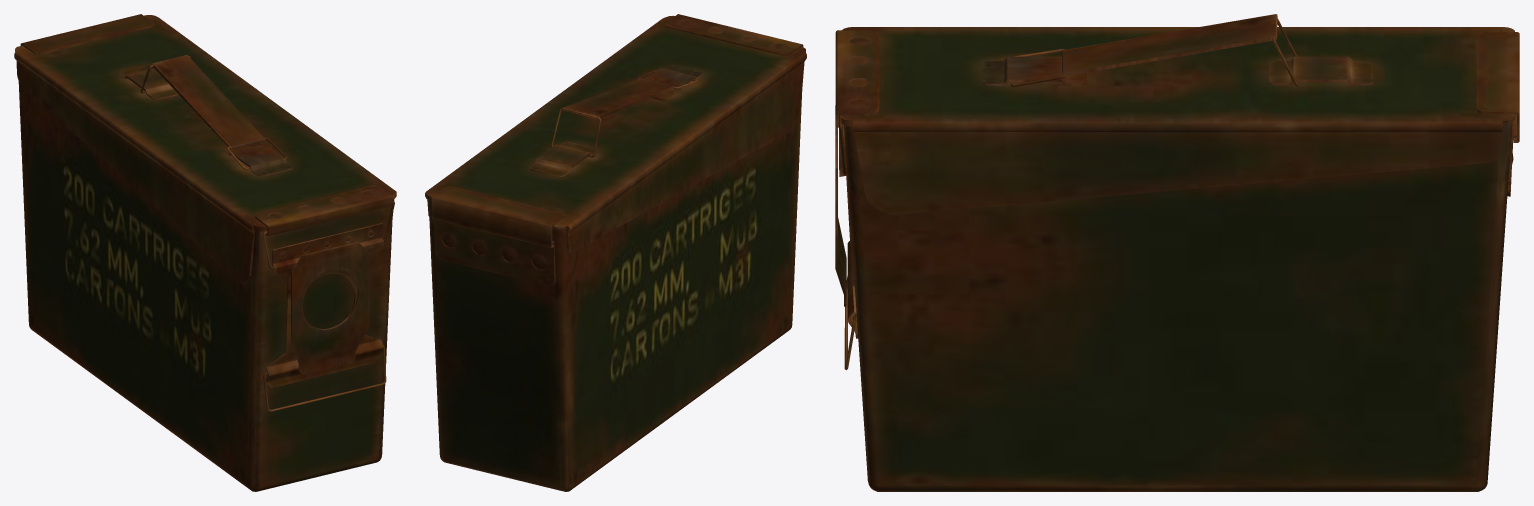
File: ammo_box.glb
The picture shows the model from 3 angles, left to right: view 1: azimuth 30°, elevation 25°; view 2: azimuth 150°, elevation 25°; view 3: azimuth 270°, elevation 25°; orthographic projection. The views are drawn at different scales.
Parts seen in each view (by area): view 1: ammo_box, ammo_box_handle, ammo_box_latch; view 2: ammo_box, ammo_box_handle; view 3: ammo_box, ammo_box_handle.
Part boxes in pixels (x1,y1,x2,y2): ammo_box: (14, 14, 396, 491); ammo_box_handle: (152, 54, 265, 149); ammo_box_latch: (263, 345, 386, 411); ammo_box: (425, 14, 806, 491); ammo_box_handle: (562, 78, 675, 119); ammo_box: (835, 27, 1519, 491); ammo_box_handle: (1062, 14, 1277, 76).
Size of the model in its own units: 0.0865 by 0.1773 by 0.2578.
Materials: 1 (1 with a texture image).
